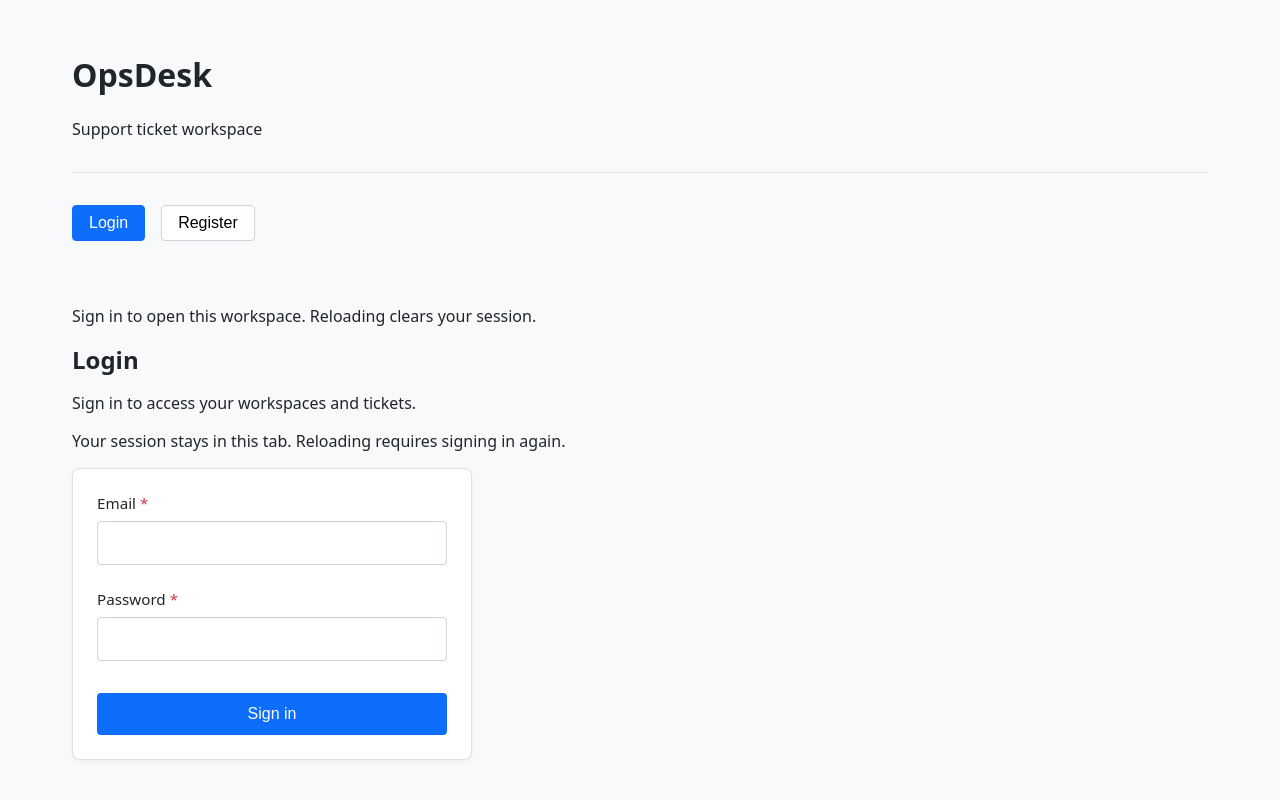
Scenario: creates a workspace once with name only and follows server-owned context
Type "demo@example.com" into the field labelled "Email *" at point(272, 543), box left=97, top=521, right=447, bottom=565
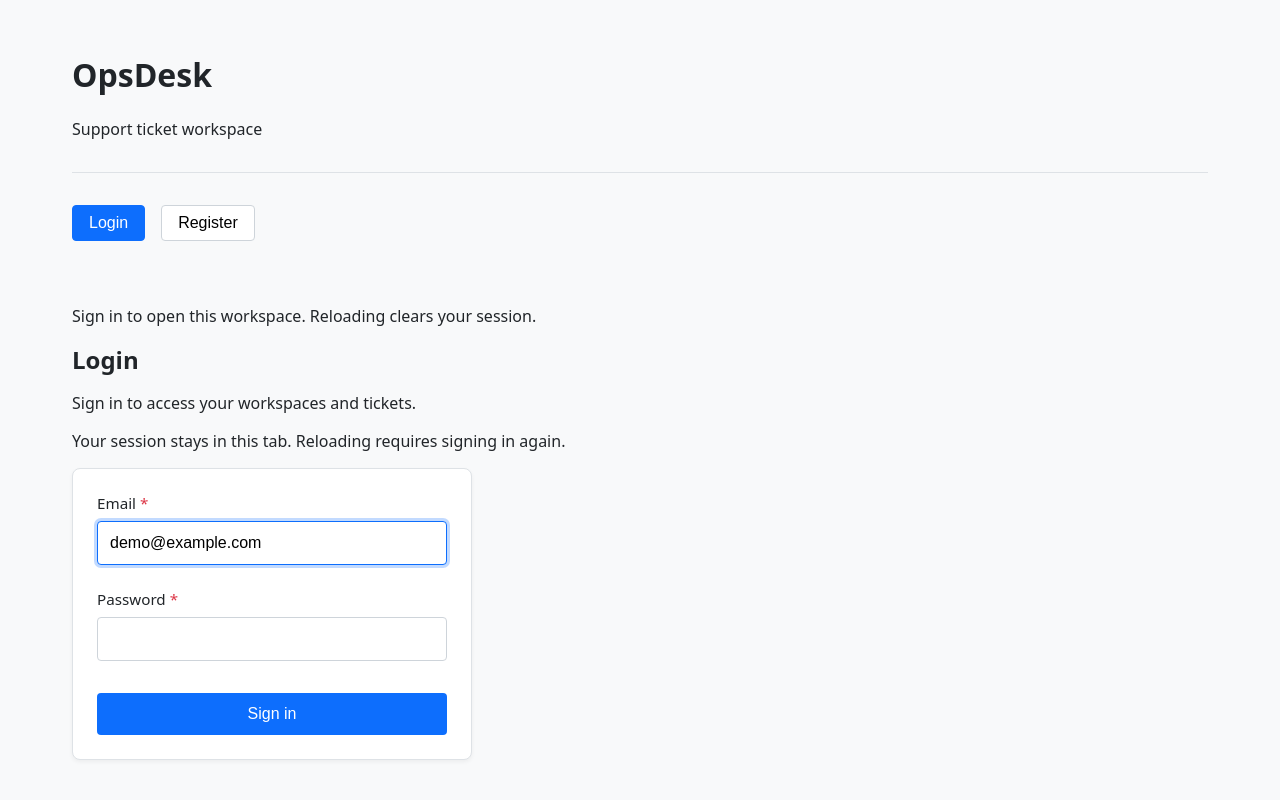
Type "demo-password-12345" into the password field labelled "Password *" at point(272, 639), box left=97, top=617, right=447, bottom=661
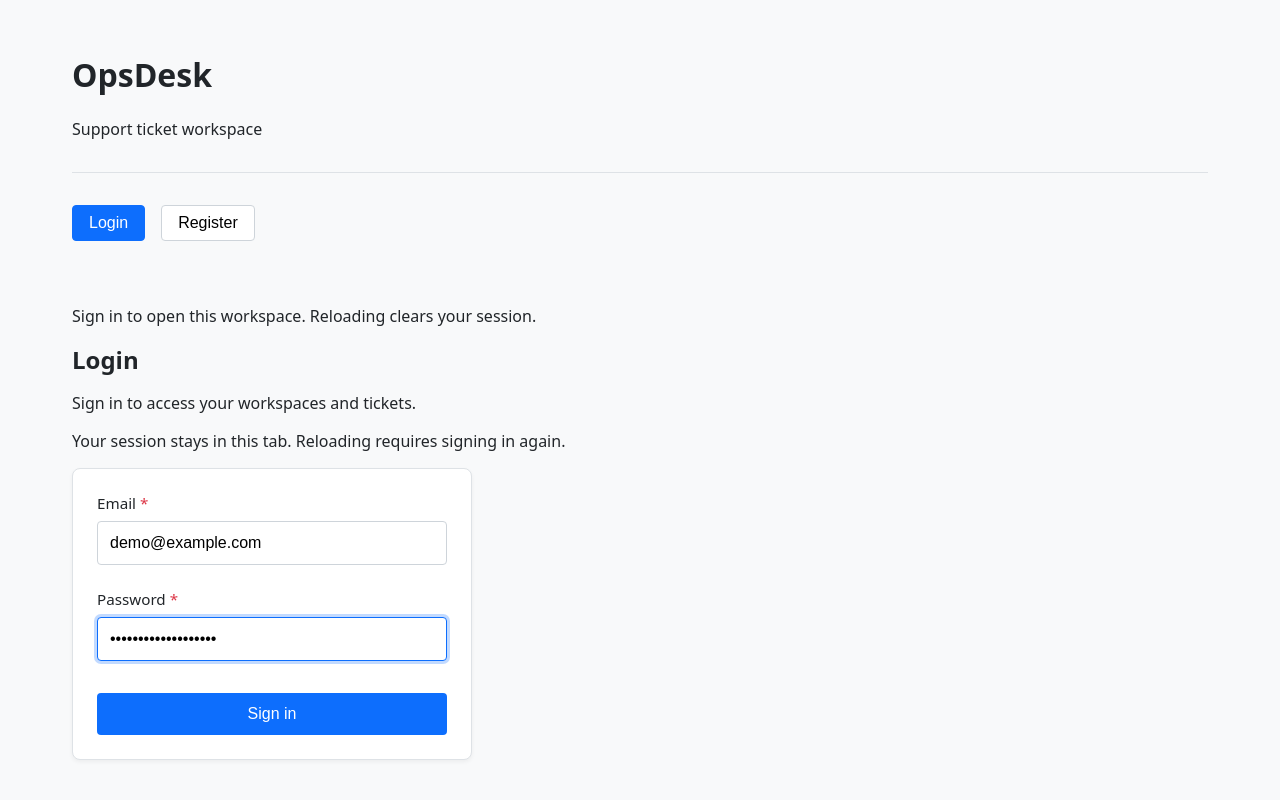
Click the button "Sign in" at point(272, 714), box left=97, top=693, right=447, bottom=735
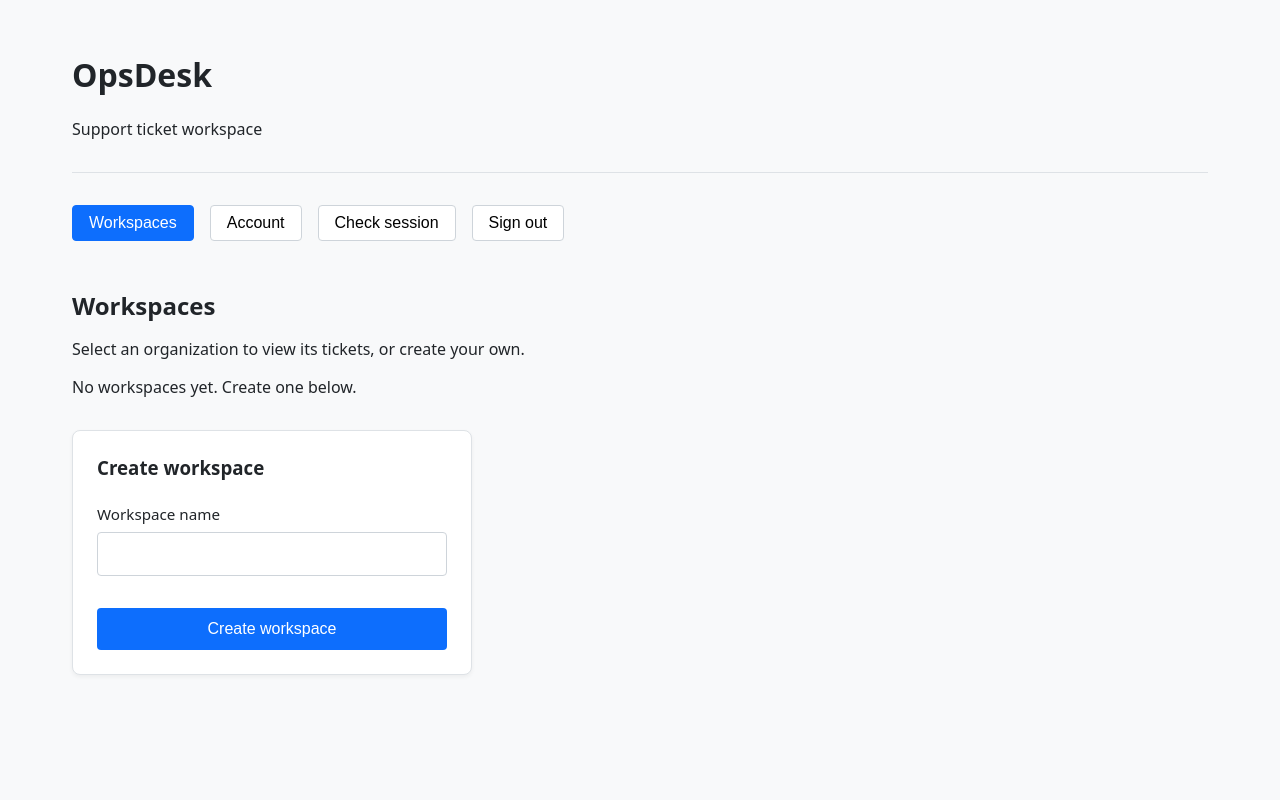
expect the button "Sign out" is shown: met, box left=472, top=205, right=564, bottom=241
expect the text "No workspaces yet. Create one below." is shown: met, box left=72, top=376, right=356, bottom=398
Type "Alpha support" into the field labelled "Workspace name" at point(272, 554), box left=97, top=532, right=447, bottom=576
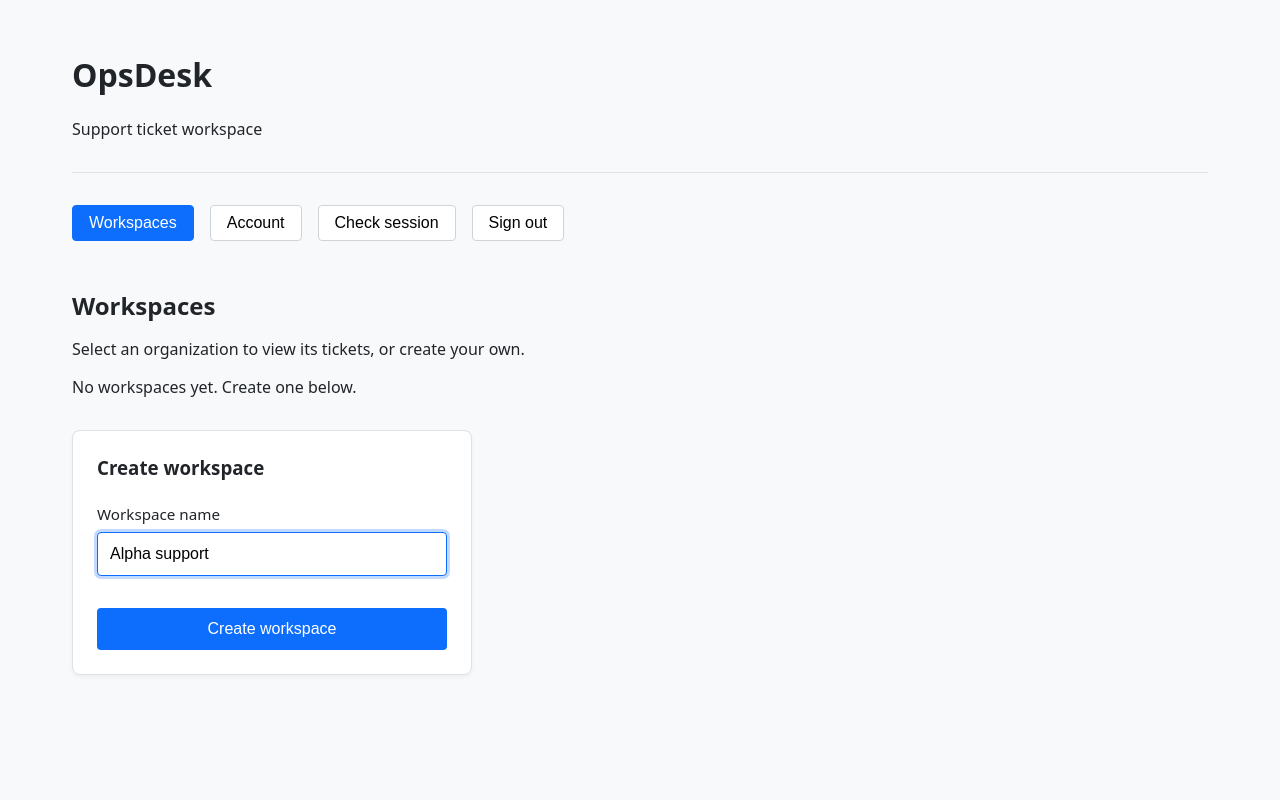
Double-click the button "Create workspace" at point(272, 629), box left=97, top=608, right=447, bottom=650
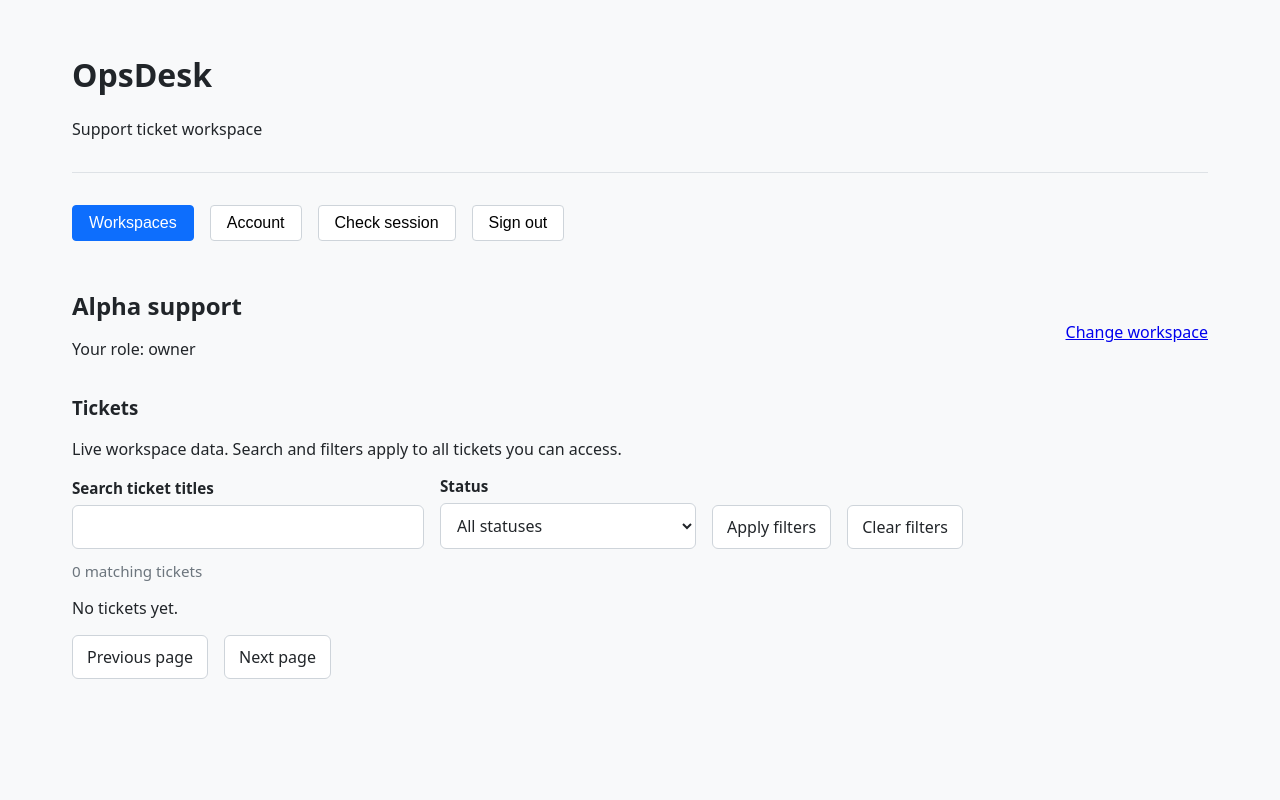
expect the text "No tickets yet." is shown: met, box left=72, top=597, right=178, bottom=619
expect the text "Your role: owner" is shown: met, box left=72, top=338, right=196, bottom=360
